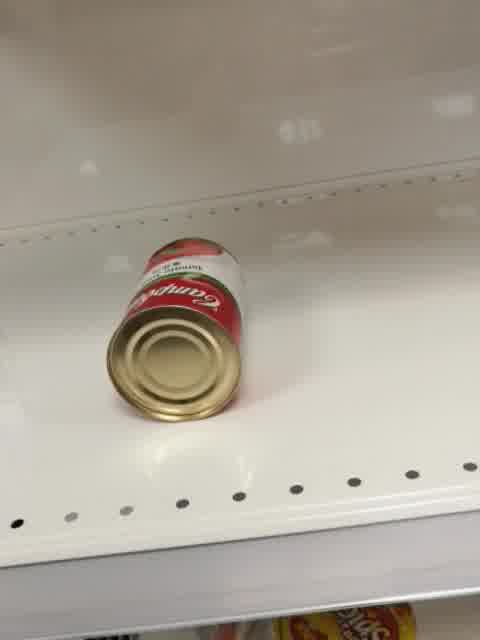tomatosoup: (105, 236, 248, 425)
